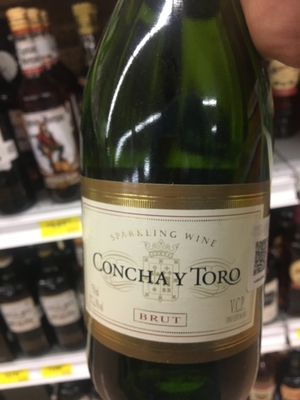brut: (71, 10, 281, 400)
